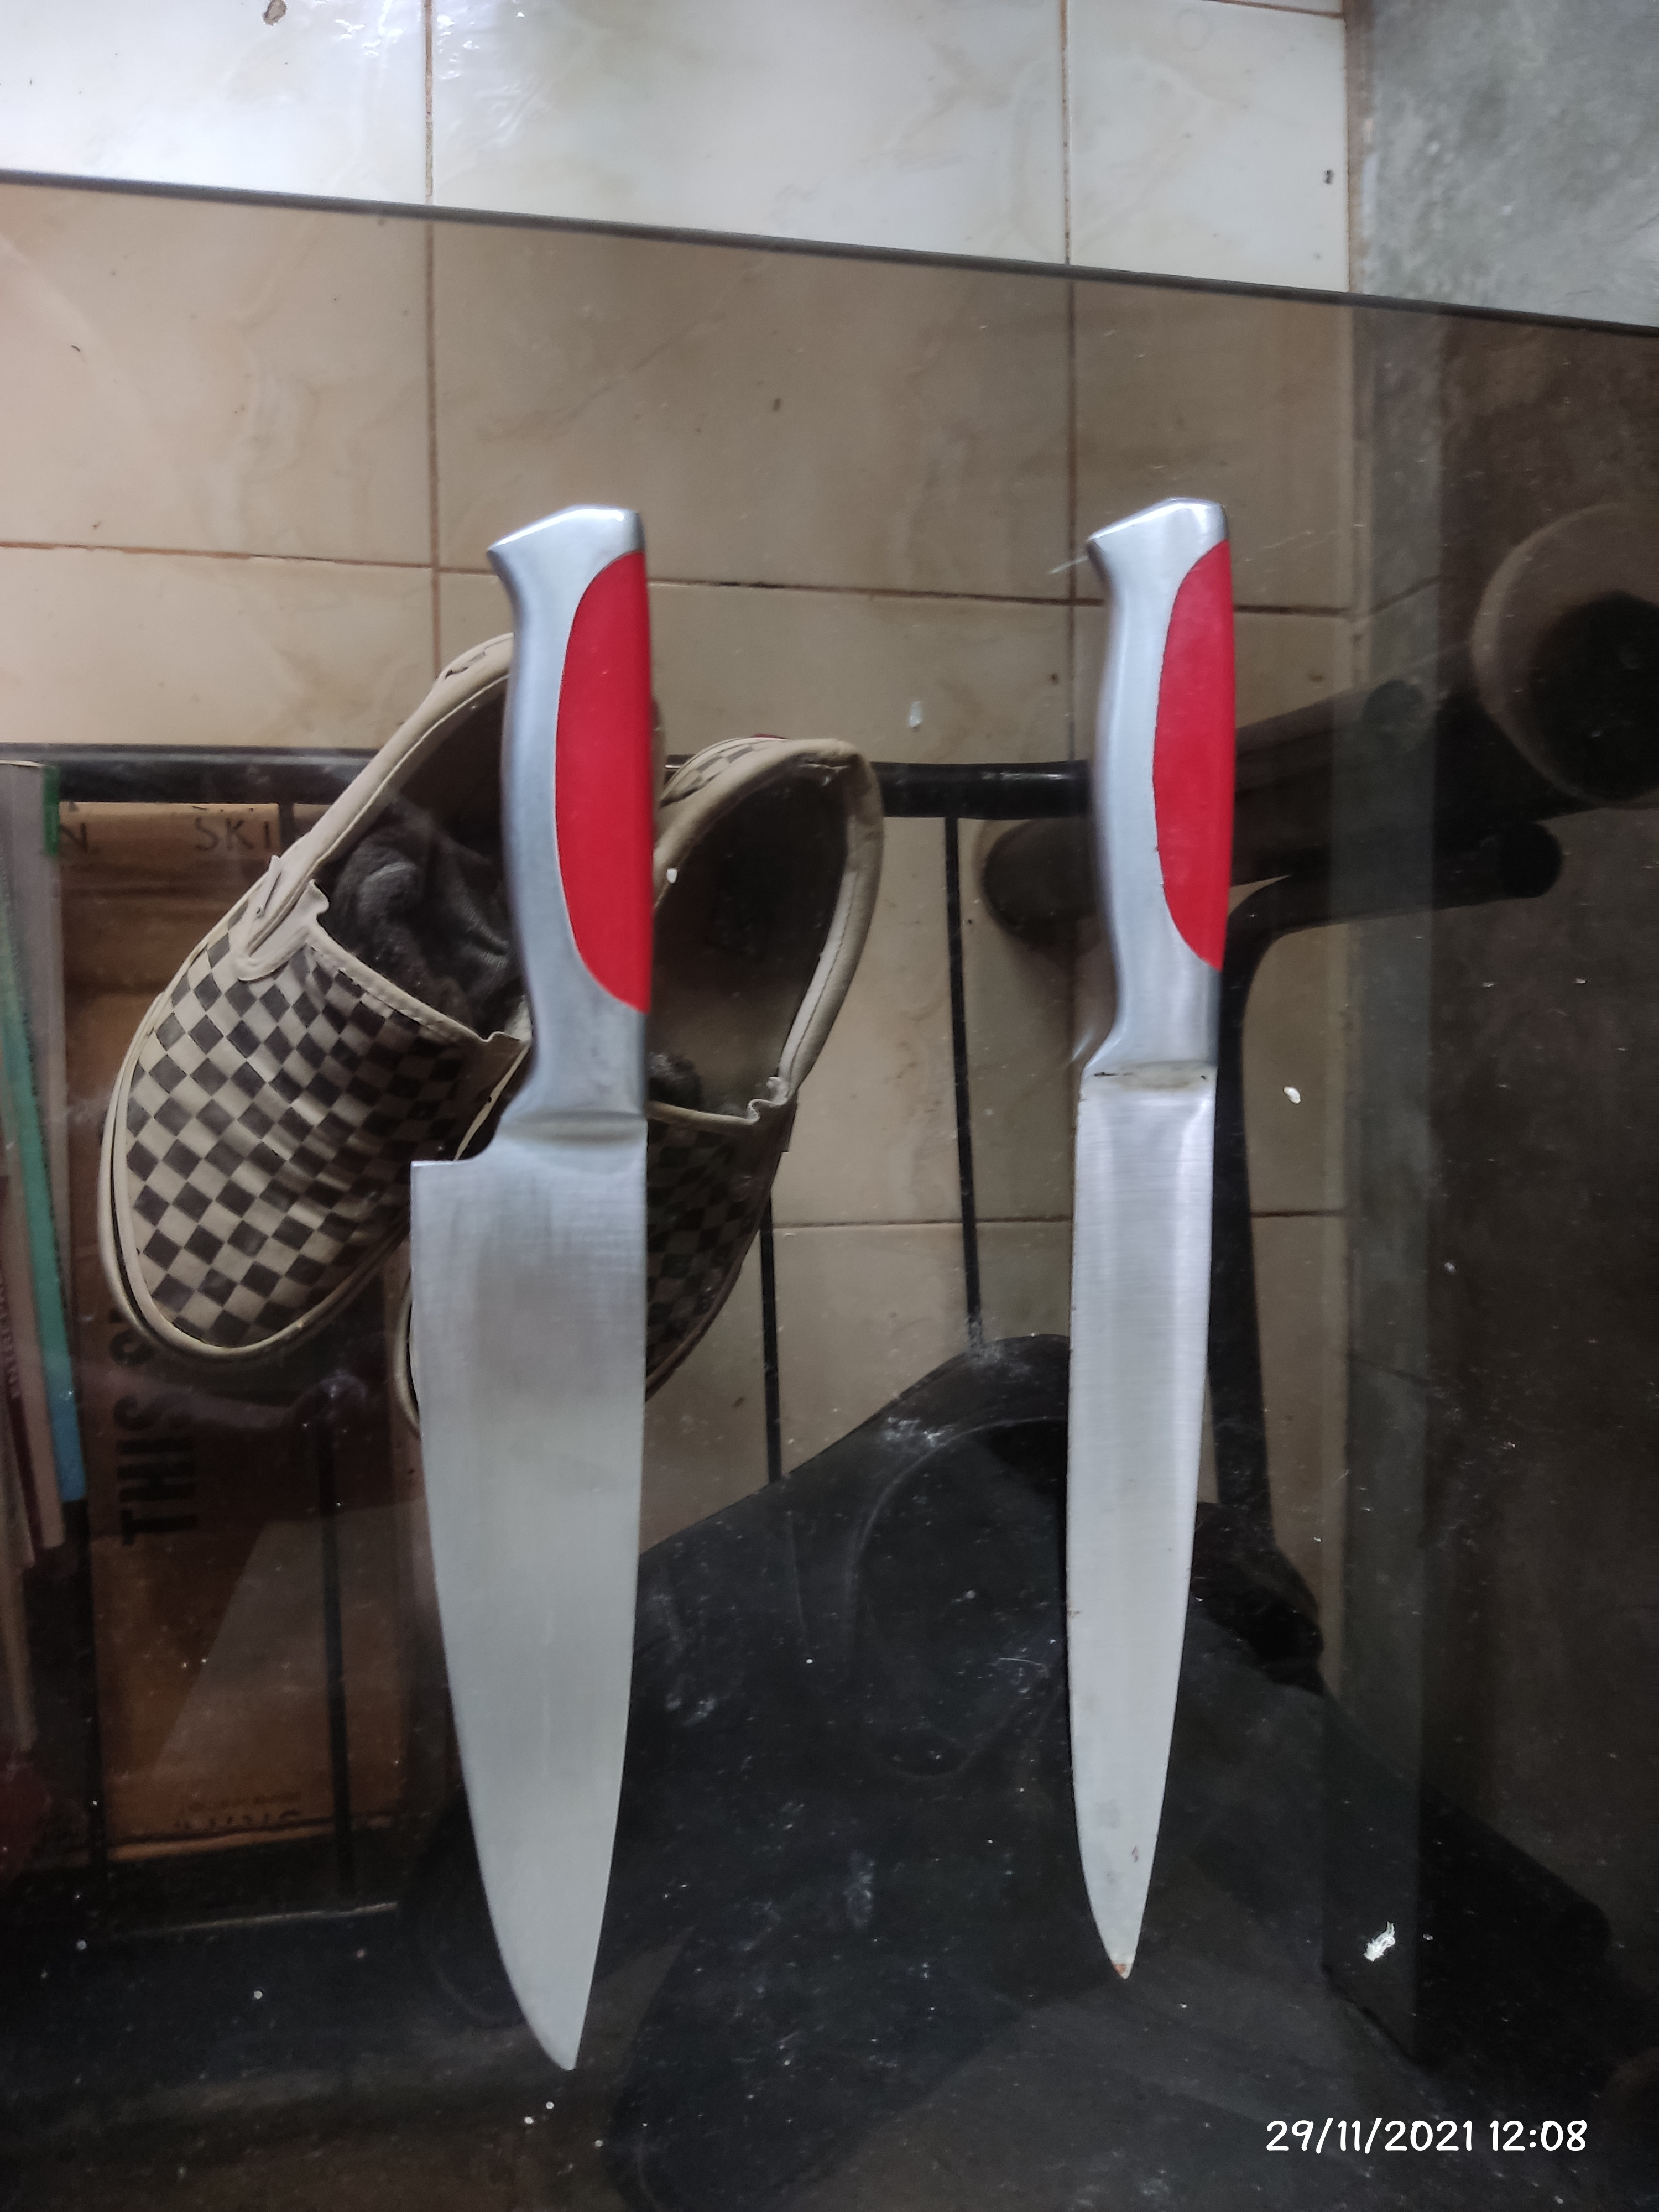knife: (403, 507, 657, 2076), (1073, 502, 1251, 1984)
